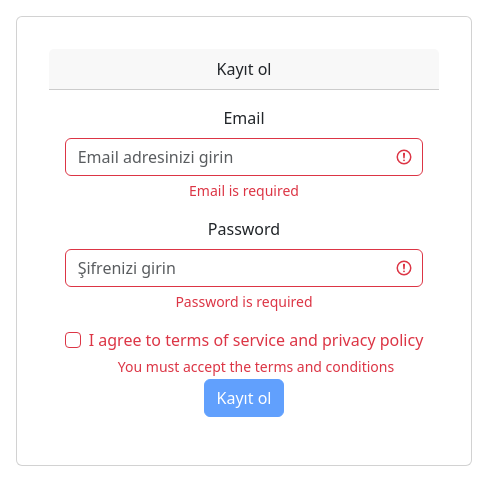
Scenario: Login Form › email ve password dogru ama checkbox kabul edilmemis
Step 1. Type "test@example.com" into the field with test id "email-input" → (245, 157), box [65, 138, 424, 176]
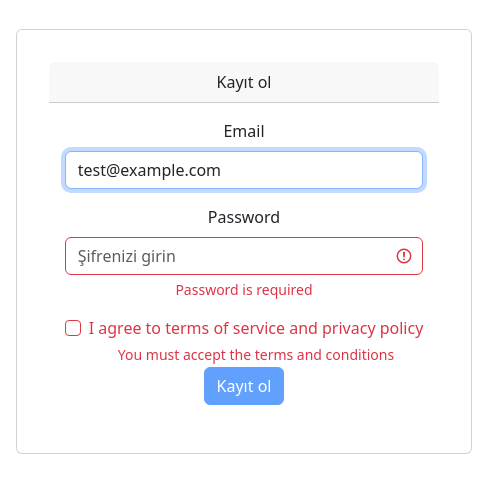
Step 2. Type "password" into the password field with test id "password-input" → (245, 256), box [65, 237, 424, 275]
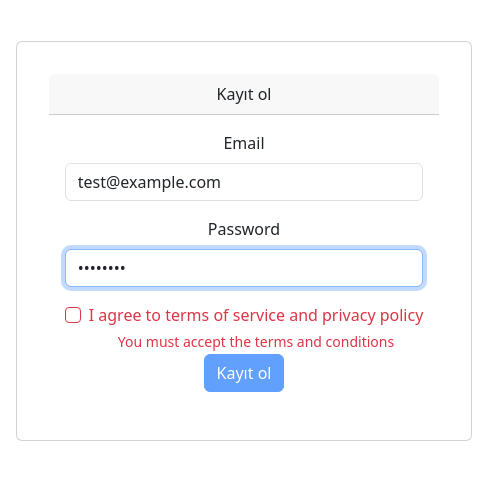
Expected: the text with test id "error-message" reads "You must accept the terms and conditions", [118, 332, 394, 351]
Expected: the number of elements with test id "error-message" is 1, [118, 332, 394, 351]
